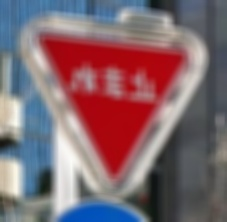Regulatory_sign_triangle: (29, 20, 191, 196)
